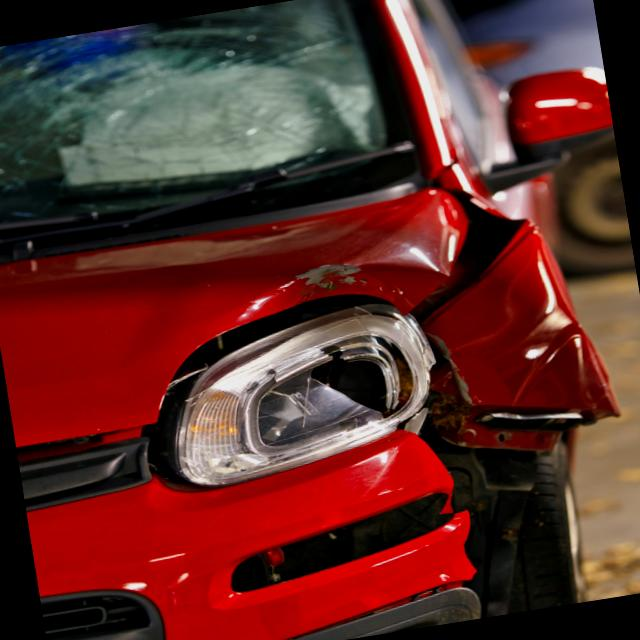Dechirure: (375, 181, 552, 328)
Phare abime: (263, 291, 453, 456)
Rayure: (275, 244, 407, 317)
